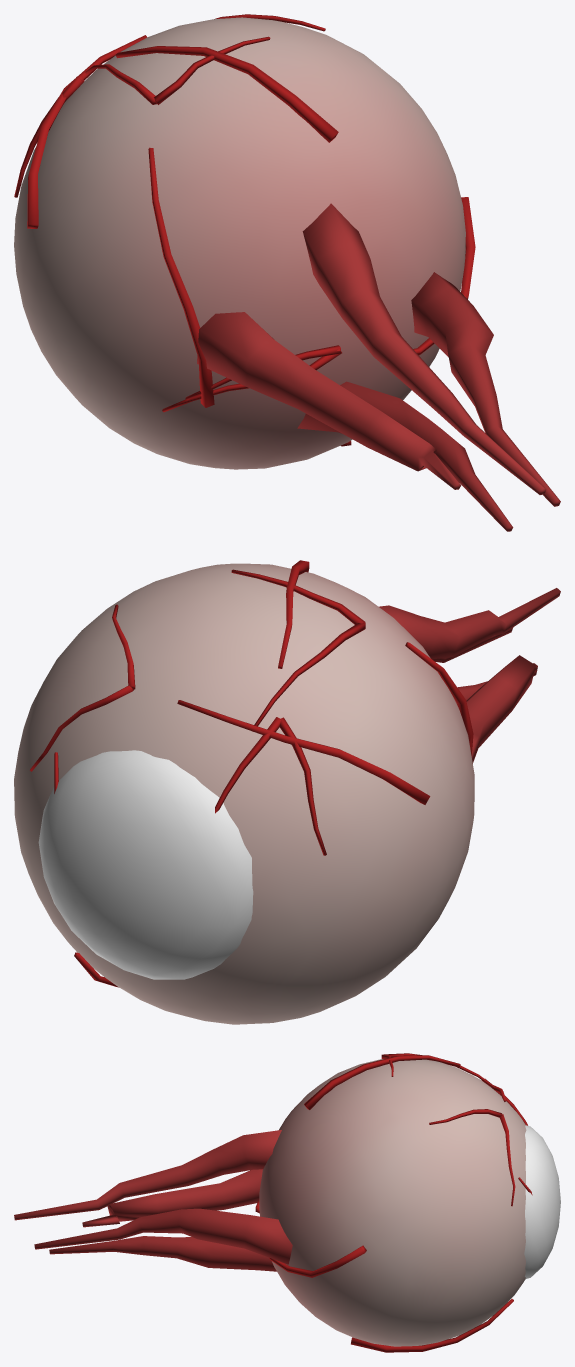
Rendered from creeper.glb.
3 views of the same model, one above another, from view 1: azimuth 30°, elevation 25°; view 2: azimuth 150°, elevation 25°; view 3: azimuth 270°, elevation 25° (orthographic). The views are drawn at different scales.
Visible parts, largest first — view 1: creeper; view 2: creeper; view 3: creeper.
Boxes of the visible parts, bbox=[...] form: creeper: bbox=[14, 14, 560, 531]; creeper: bbox=[14, 560, 560, 1024]; creeper: bbox=[14, 1053, 560, 1352].
Bounding box in the file's own units: 0.8446 × 0.849 × 1.59.
